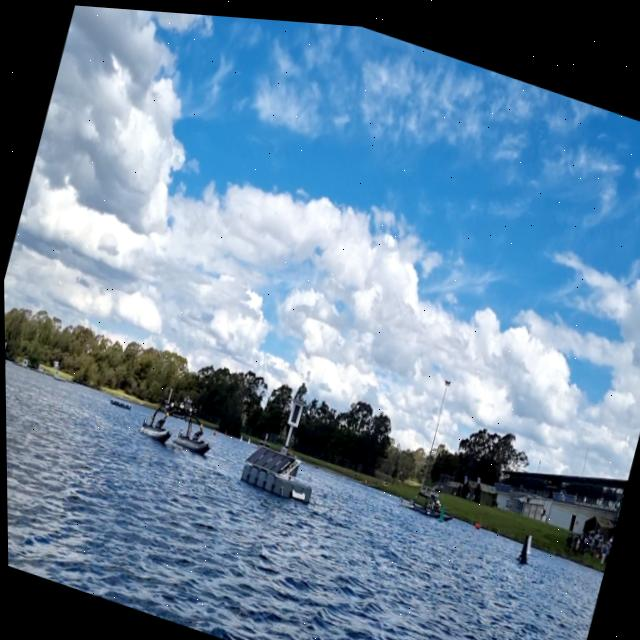led: (287, 396, 301, 421)
